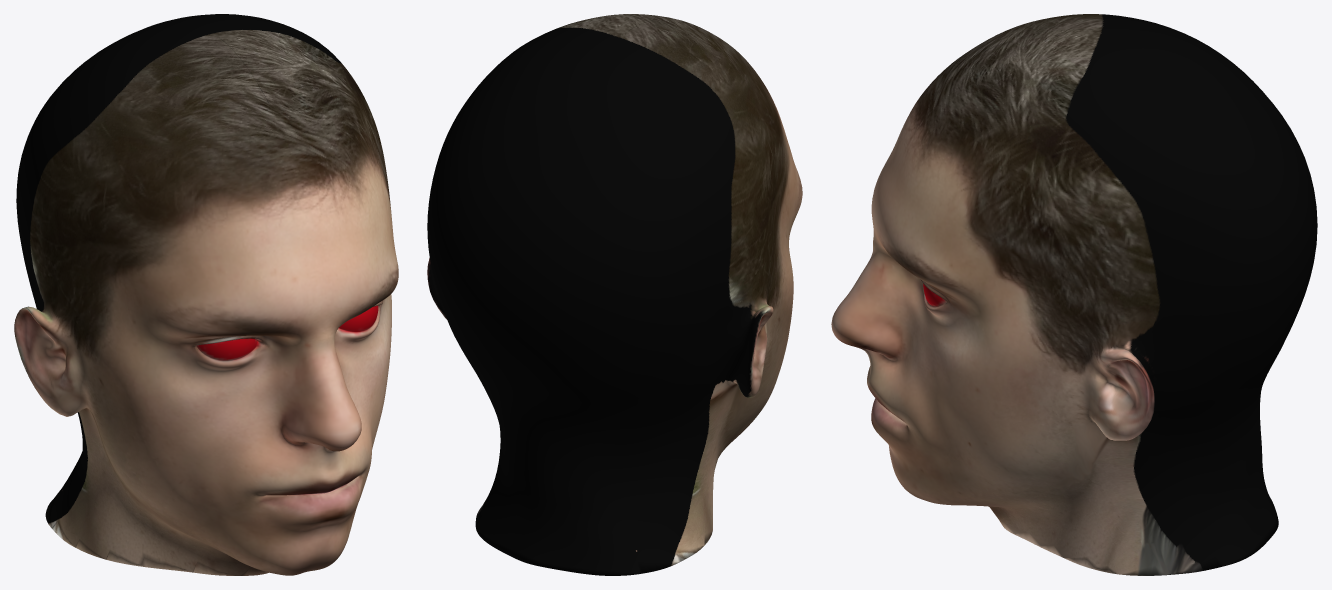
File: fromblender_darker.glb
The picture shows the model from 3 angles, left to right: view 1: azimuth 30°, elevation 25°; view 2: azimuth 150°, elevation 25°; view 3: azimuth 270°, elevation 25°; orthographic projection. The views are drawn at different scales.
Parts seen in each view (by area): view 1: FBHead; view 2: FBHead; view 3: FBHead.
Part boxes in pixels (box(x1,y1,x2,y2)): FBHead: box(14, 14, 398, 575); FBHead: box(427, 14, 802, 575); FBHead: box(831, 14, 1317, 575).
Size of the model in its own units: 1.38 by 1.87 by 1.67.
Materials: 1 (1 with a texture image).
